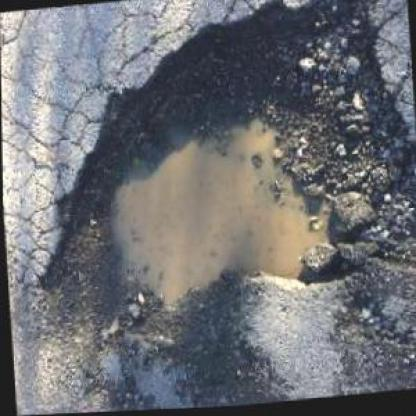pothole: (16, 0, 414, 352)
